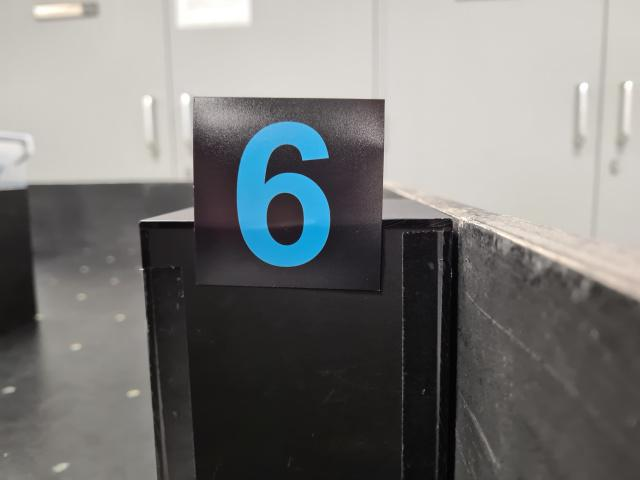six: (193, 95, 383, 291)
